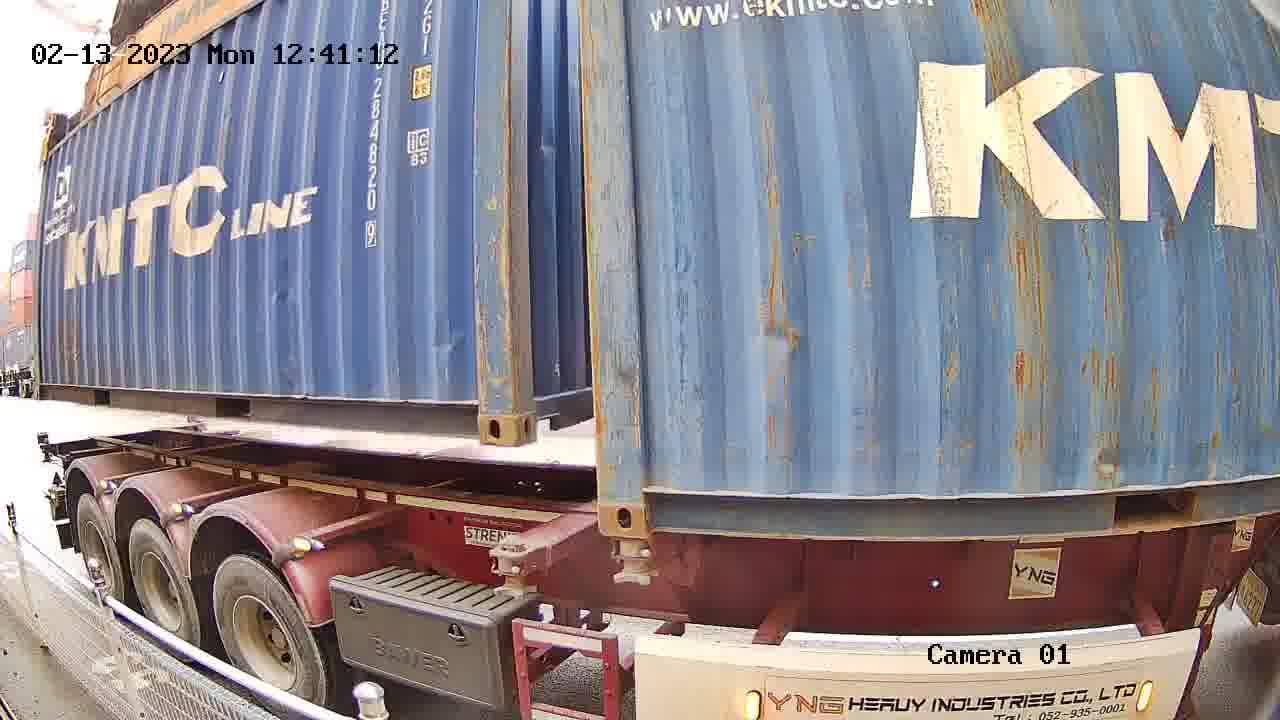Cone: (488, 535, 536, 598), (608, 538, 656, 589)
Hole_L: (599, 463, 694, 540), (518, 367, 567, 445)
Hole_R: (445, 375, 518, 448)
Tire: (213, 558, 323, 719), (127, 520, 201, 661), (77, 497, 122, 609)
